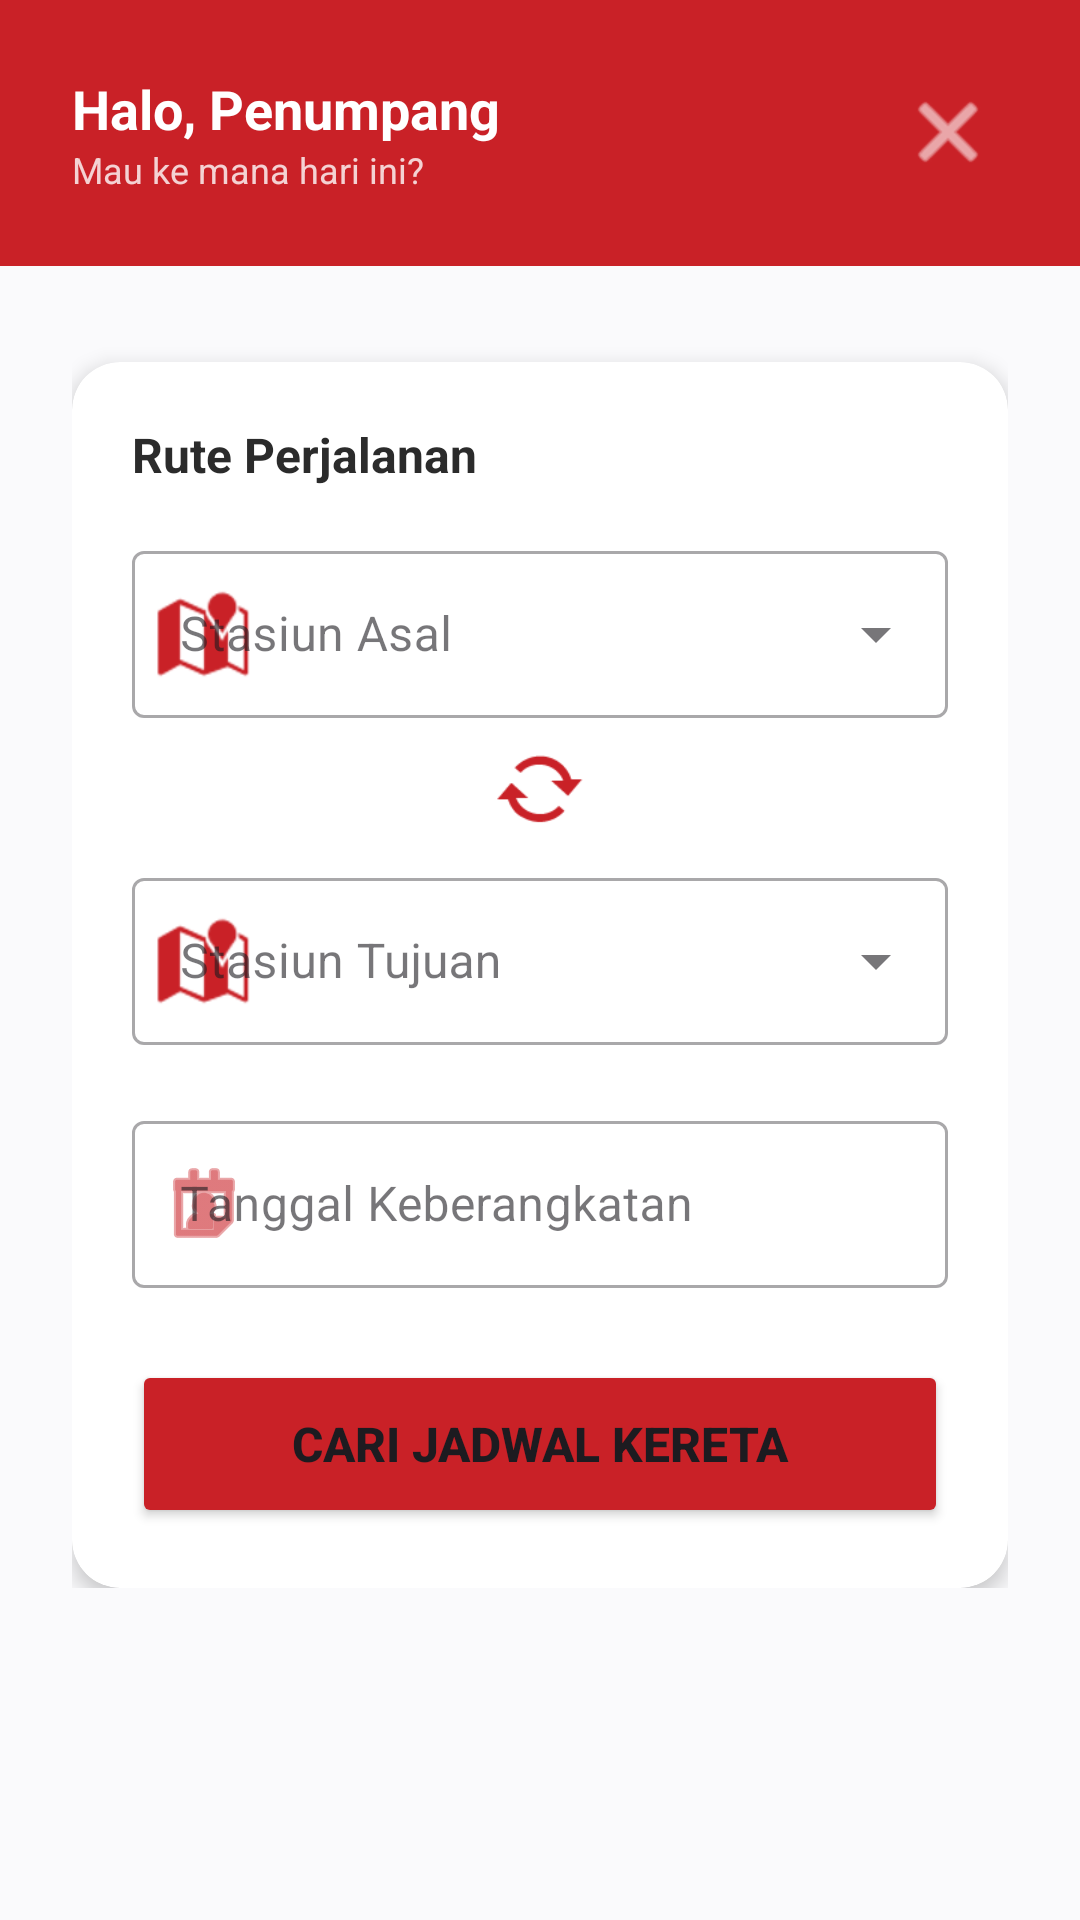

Where to tap for icons on this 1080px×1920px app screen, as [x,y]:
Tukar rute: [539,789]
